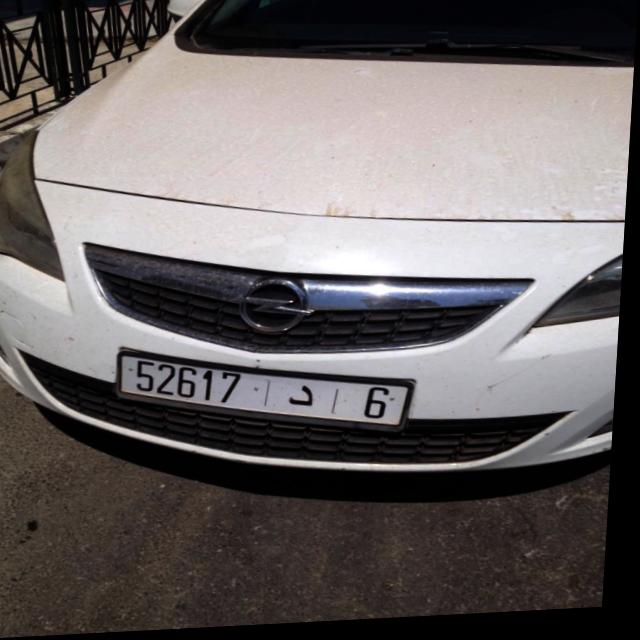License-Plate: (122, 353, 416, 429)
